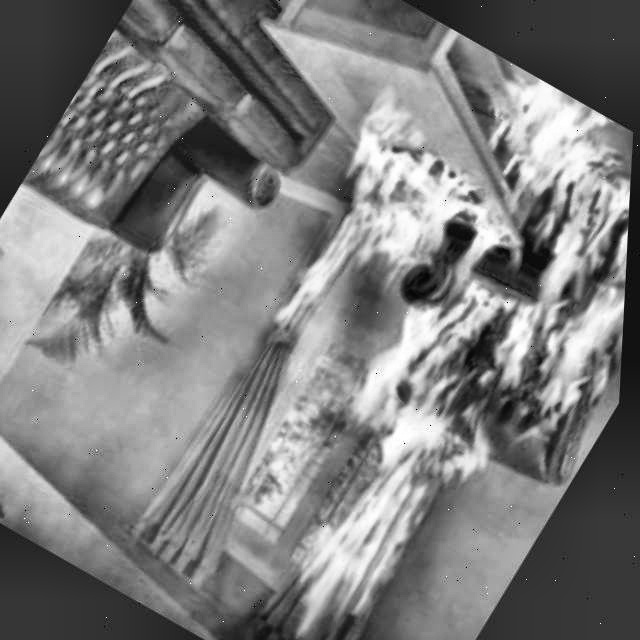Fire: (224, 17, 639, 530), (267, 435, 466, 640)
